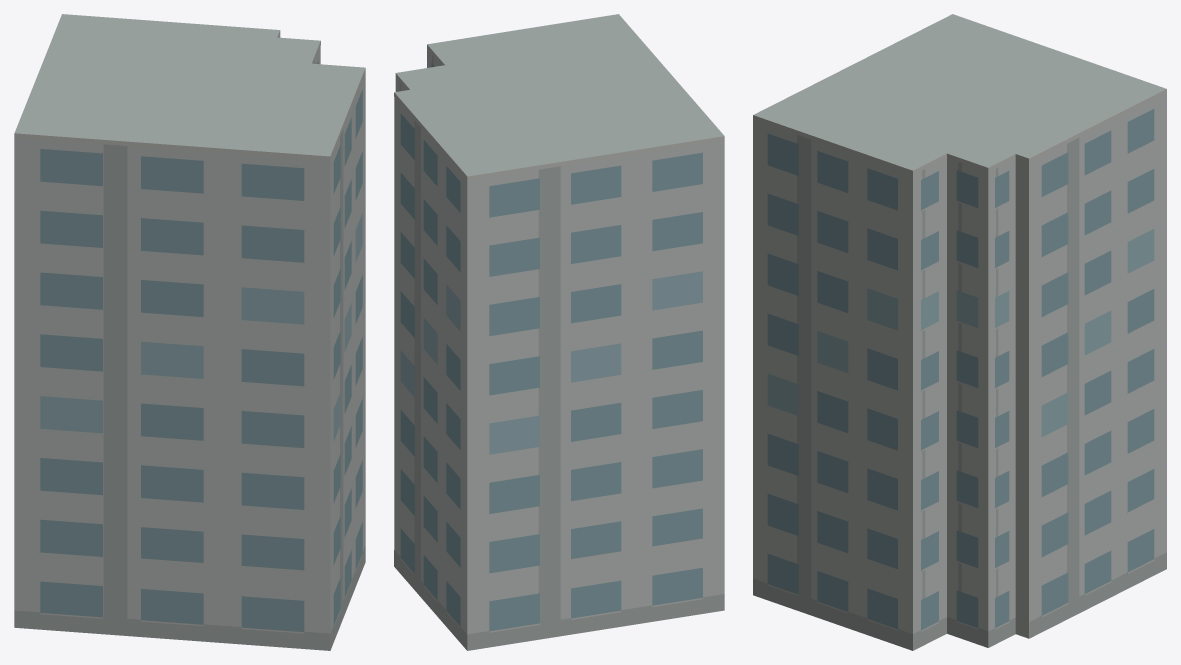
The model's file is survey-upis-32813184.glb.
3 renders of one model, left to right at view 1: azimuth 30°, elevation 25°; view 2: azimuth 150°, elevation 25°; view 3: azimuth 270°, elevation 25°, orthographic. The views are drawn at different scales.
Parts seen in each view (by area): view 1: survey-upis-32813184.tmp; view 2: survey-upis-32813184.tmp; view 3: survey-upis-32813184.tmp.
Boxes of the visible parts, x1,y1,x2,y2 form: survey-upis-32813184.tmp: [14, 14, 365, 650]; survey-upis-32813184.tmp: [394, 14, 724, 650]; survey-upis-32813184.tmp: [753, 14, 1166, 650].
Size of the model in its own units: 18.84 by 26.9 by 21.02.
